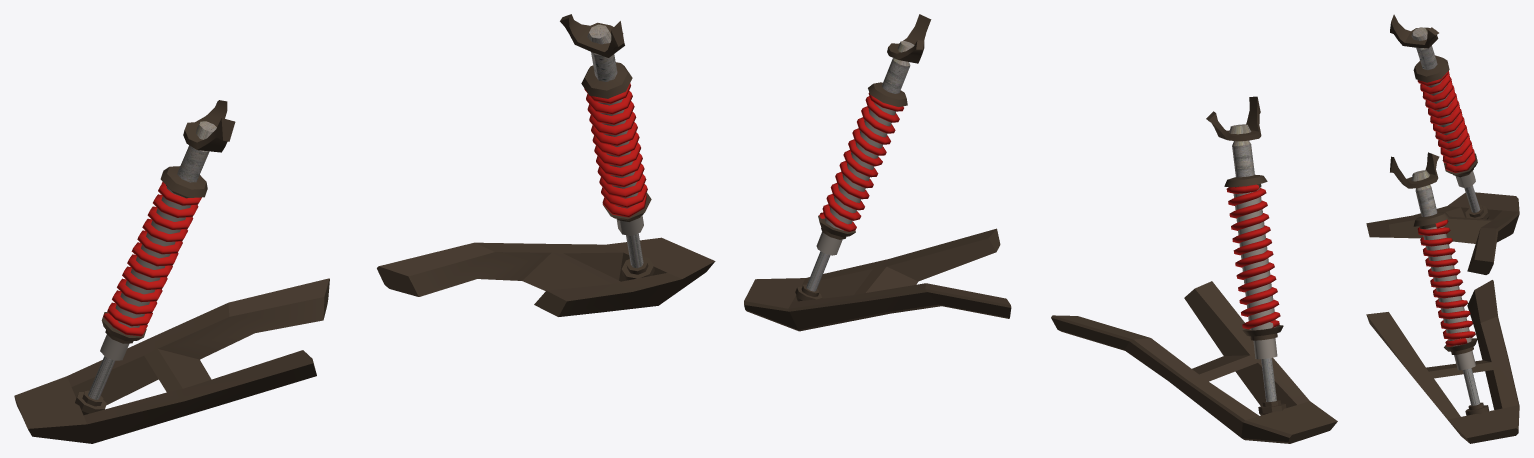
The model's file is Suspension.fbx.
3 renders of one model, left to right at view 1: azimuth 30°, elevation 25°; view 2: azimuth 150°, elevation 25°; view 3: azimuth 270°, elevation 25°, orthographic. The views are drawn at different scales.
Parts seen in each view (by area): view 1: node_id61, node_id65, node_id63; view 2: node_id61, node_id65, node_id63; view 3: node_id61, node_id65, node_id63.
Part boxes in pixels (box(x1,y1,x2,y2)): node_id61: box(14, 14, 715, 443); node_id65: box(103, 83, 647, 336); node_id63: box(88, 24, 643, 399); node_id61: box(744, 14, 1337, 443); node_id65: box(819, 92, 1280, 329); node_id63: box(806, 41, 1277, 402); node_id61: box(1366, 14, 1519, 443); node_id65: box(1417, 71, 1475, 346); node_id63: box(1411, 27, 1480, 405).
Bounding box in the file's own units: 0.512 × 0.2412 × 0.1345.
3 materials, 3 textured.
